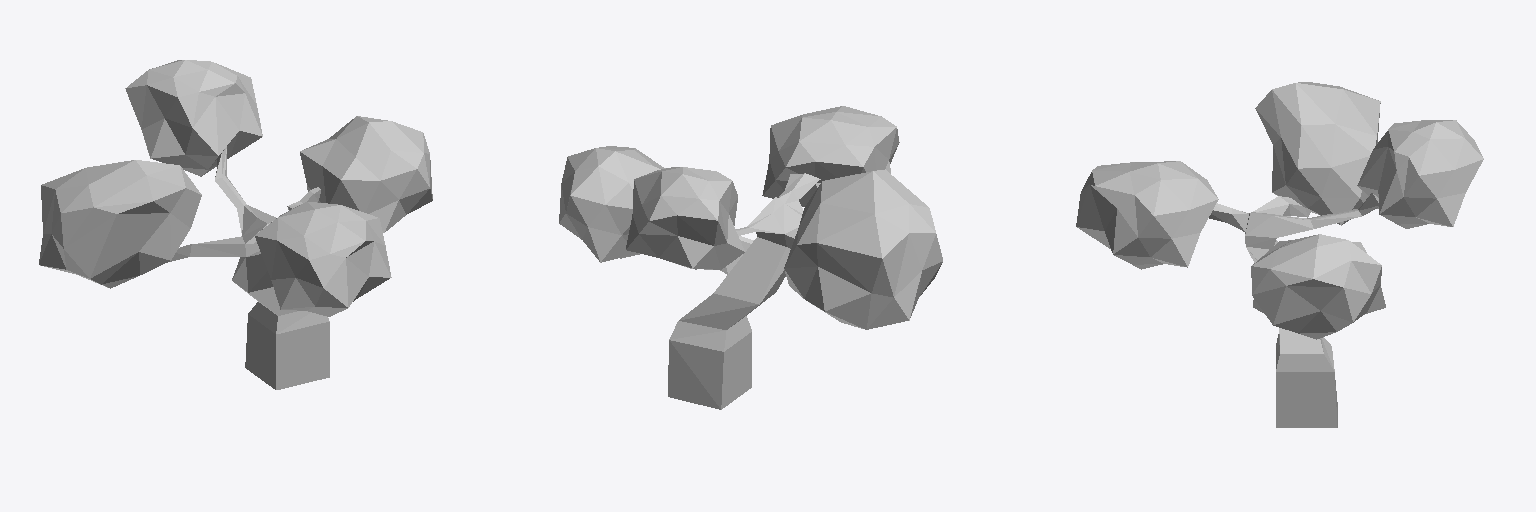
The model's file is tree.obj.
3 renders of one model, left to right at view 1: azimuth 30°, elevation 25°; view 2: azimuth 150°, elevation 25°; view 3: azimuth 270°, elevation 25°, orthographic.
Parts seen in each view (by area): view 1: Cube.001; view 2: Cube.001; view 3: Cube.001.
Part boxes in pixels (bbox=[...]): Cube.001: bbox=[39, 60, 432, 389]; Cube.001: bbox=[559, 106, 942, 409]; Cube.001: bbox=[1076, 82, 1483, 427].
Size of the model in its own units: 13.74 by 9.81 by 13.2.